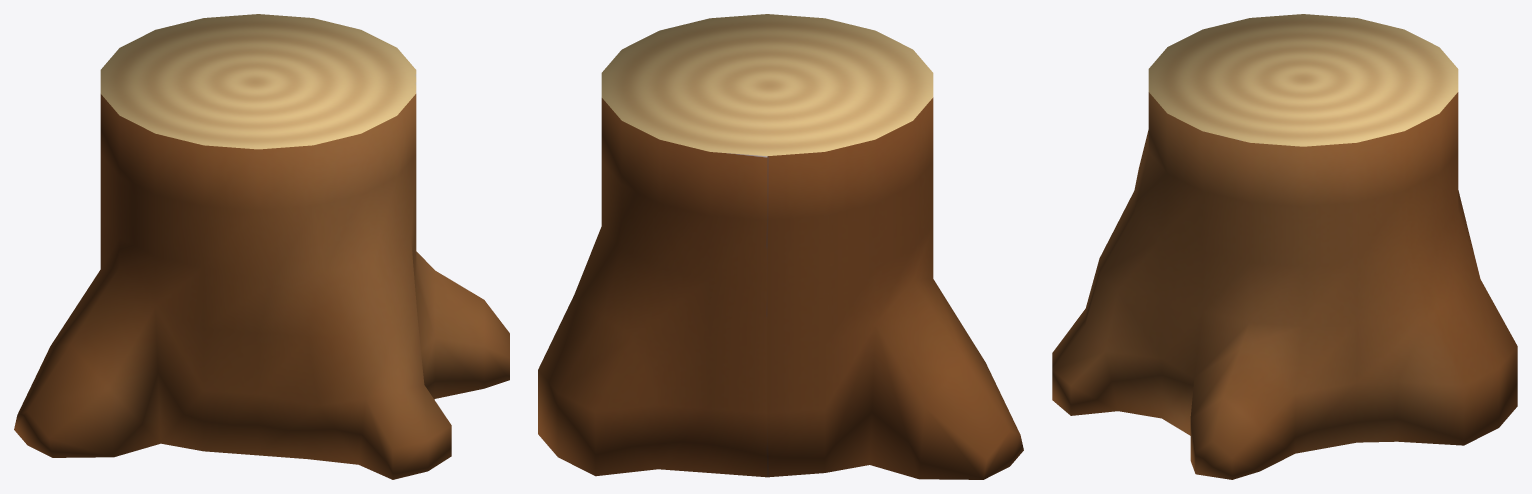
Rendered from Stump.FBX.
3 views of the same model, side by side, from view 1: azimuth 30°, elevation 25°; view 2: azimuth 150°, elevation 25°; view 3: azimuth 270°, elevation 25° (orthographic). The views are drawn at different scales.
Visible parts, largest first — view 1: Stump; view 2: Stump; view 3: Stump.
Boxes of the visible parts, left/top/right/bottom form: Stump: left=14, top=14, right=509, bottom=479; Stump: left=538, top=14, right=1023, bottom=479; Stump: left=1052, top=14, right=1517, bottom=479.
Size of the model in its own units: 30.05 by 20.08 by 28.14.
1 material, 1 textured.
